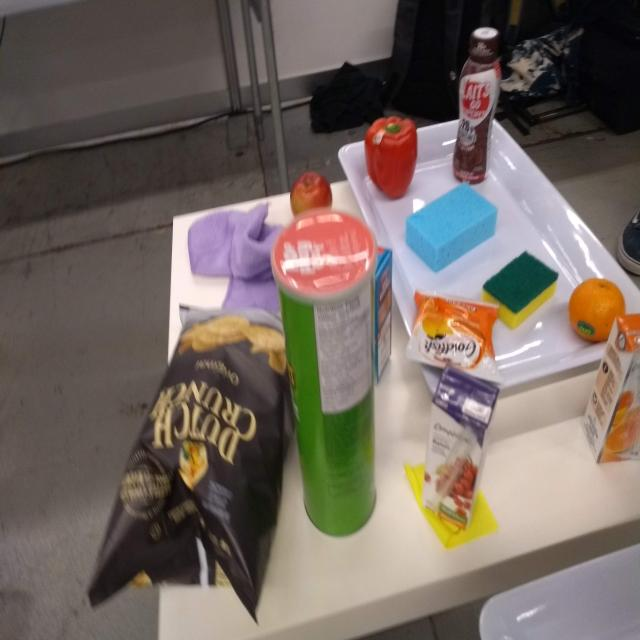chocolate_drink: (449, 22, 506, 187)
crackers: (399, 286, 504, 388)
grape_juice: (420, 357, 503, 532)
orange: (566, 273, 626, 348)
paprika: (362, 111, 420, 202)
potato_chips: (84, 301, 295, 630)
pringles: (271, 206, 383, 543)
scrubby: (478, 248, 562, 334)
sponge_opl: (402, 178, 499, 276)
